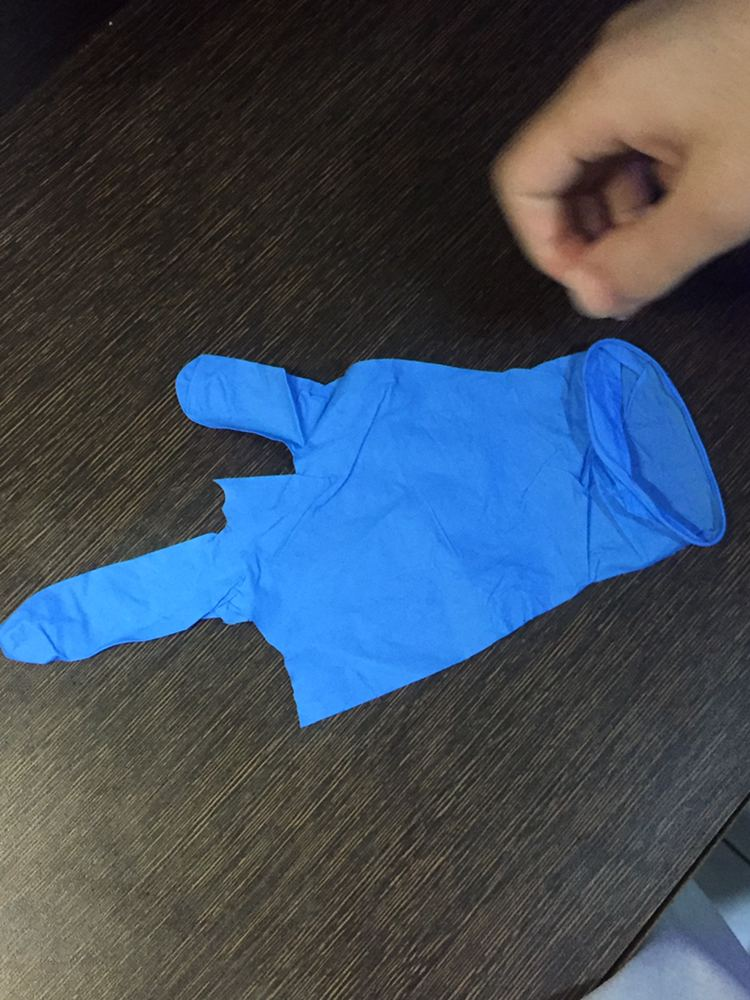defected: (1, 350, 750, 753)
